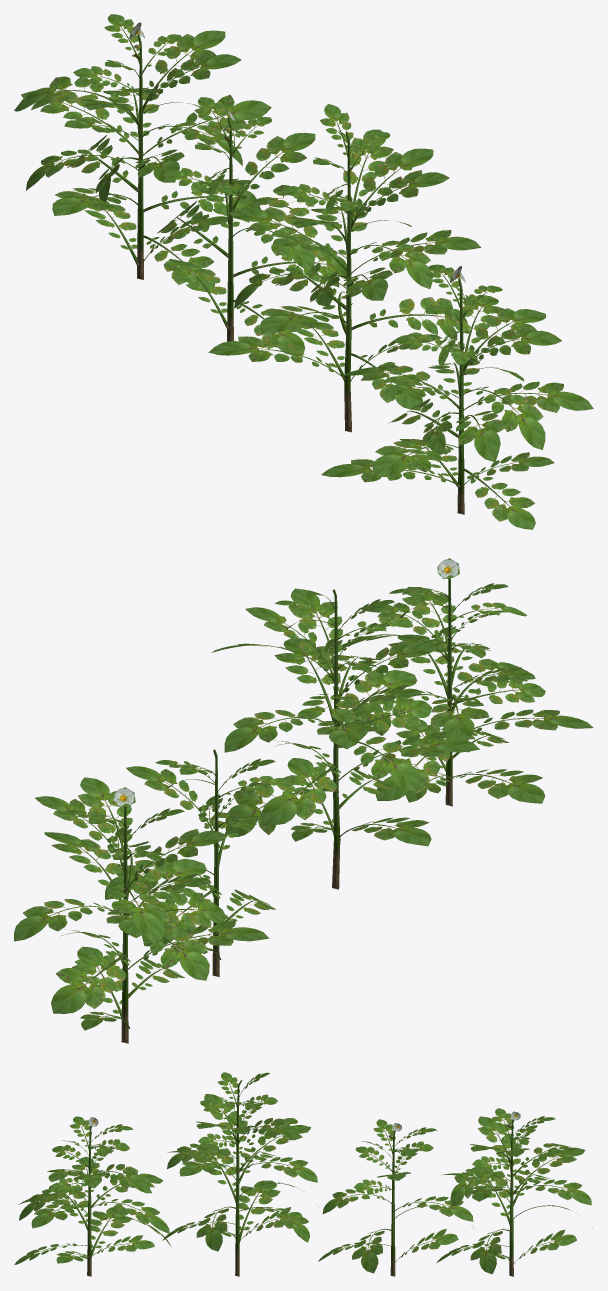
Rendered from potatoplants.glb.
3 views of the same model, one above another, from view 1: azimuth 30°, elevation 25°; view 2: azimuth 150°, elevation 25°; view 3: azimuth 270°, elevation 25° (orthographic). The views are drawn at different scales.
Visible parts, largest first — view 1: Potato_03; view 2: Potato_03; view 3: Potato_03.
Part boxes in pixels (bbox=[...]): Potato_03: bbox=[14, 14, 593, 529]; Potato_03: bbox=[14, 558, 593, 1043]; Potato_03: bbox=[14, 1072, 592, 1276].
Bounding box in the file's own units: 0.1679 × 0.2235 × 0.5787.
Materials: 1 (1 with a texture image).
